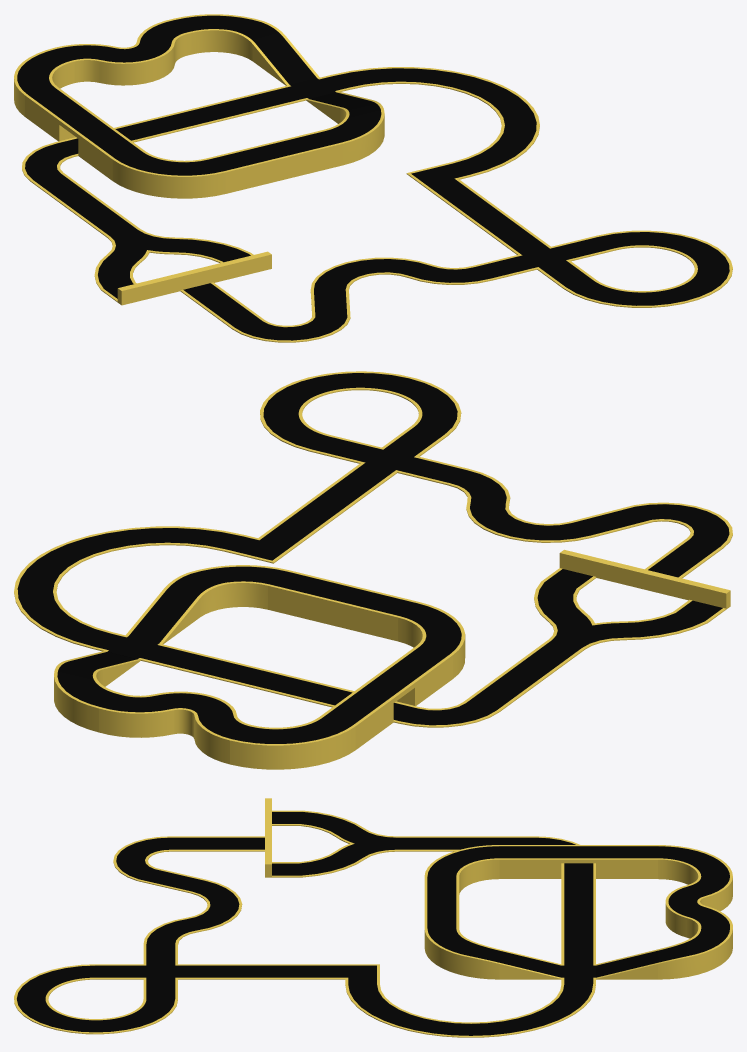
File: Raceway2.dae
3 renders of one model, top to bottom at view 1: azimuth 30°, elevation 25°; view 2: azimuth 150°, elevation 25°; view 3: azimuth 270°, elevation 25°, orthographic. The views are drawn at different scales.
Parts seen in each view (by area): view 1: Pavement, CurbBridge, PavementBridge, Curb, Wall; view 2: Pavement, CurbBridge, PavementBridge, Curb, Wall; view 3: Pavement, CurbBridge, PavementBridge, Curb, Wall.
Boxes of the visible parts, bbox=[...] form: Pavement: bbox=[25, 68, 729, 340]; CurbBridge: bbox=[14, 14, 384, 198]; PavementBridge: bbox=[17, 15, 381, 175]; Curb: bbox=[22, 67, 732, 342]; Wall: bbox=[117, 251, 271, 305]; Pavement: bbox=[17, 373, 729, 725]; CurbBridge: bbox=[54, 565, 465, 769]; PavementBridge: bbox=[57, 566, 461, 743]; Curb: bbox=[14, 371, 732, 727]; Wall: bbox=[559, 549, 730, 608]; Pavement: bbox=[17, 812, 595, 1035]; CurbBridge: bbox=[424, 845, 732, 979]; PavementBridge: bbox=[427, 846, 729, 977]; Curb: bbox=[14, 810, 595, 1037]; Wall: bbox=[265, 798, 271, 877].
Bounding box in the file's own units: 37.18 × 49.89 × 1.5.
